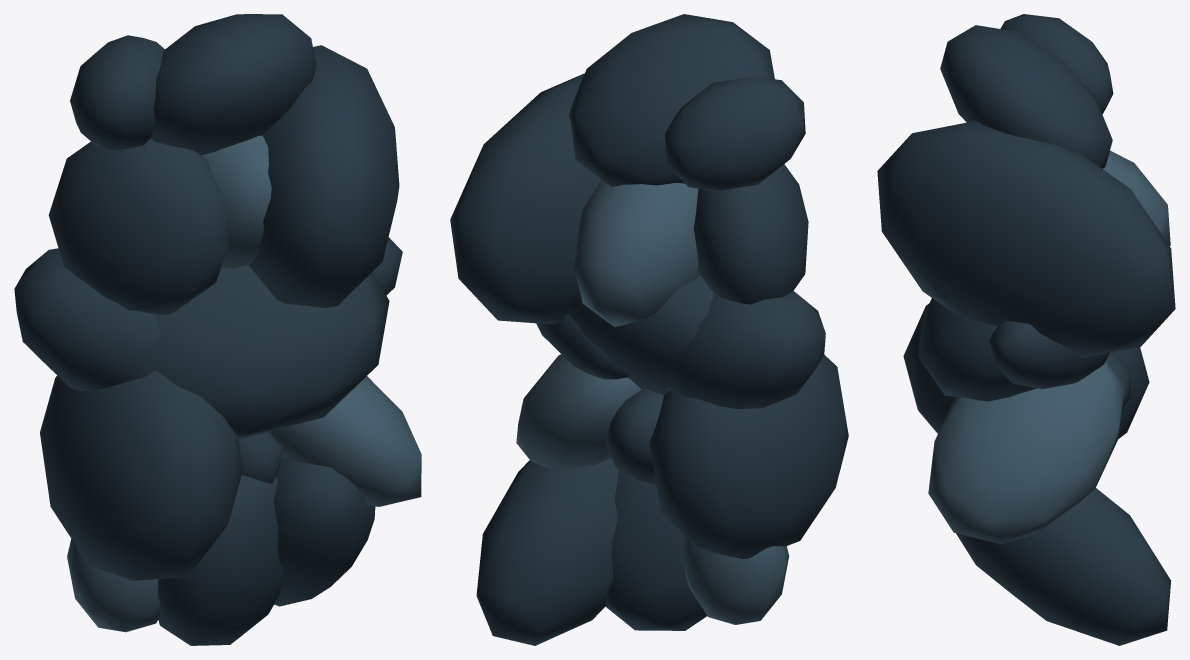
The model's file is cliff-detail.glb.
3 renders of one model, left to right at view 1: azimuth 30°, elevation 25°; view 2: azimuth 150°, elevation 25°; view 3: azimuth 270°, elevation 25°, orthographic. The views are drawn at different scales.
Parts seen in each view (by area): view 1: basalt_boulder (×14); view 2: basalt_boulder (×14); view 3: basalt_boulder (×10).
Part boxes in pixels (box(x1,y1,x2,y2)): basalt_boulder (×14): box(14, 14, 421, 645); basalt_boulder (×14): box(450, 14, 848, 645); basalt_boulder (×10): box(877, 14, 1175, 645).
Bounding box in the file's own units: 1.62 × 2.78 × 1.35.
